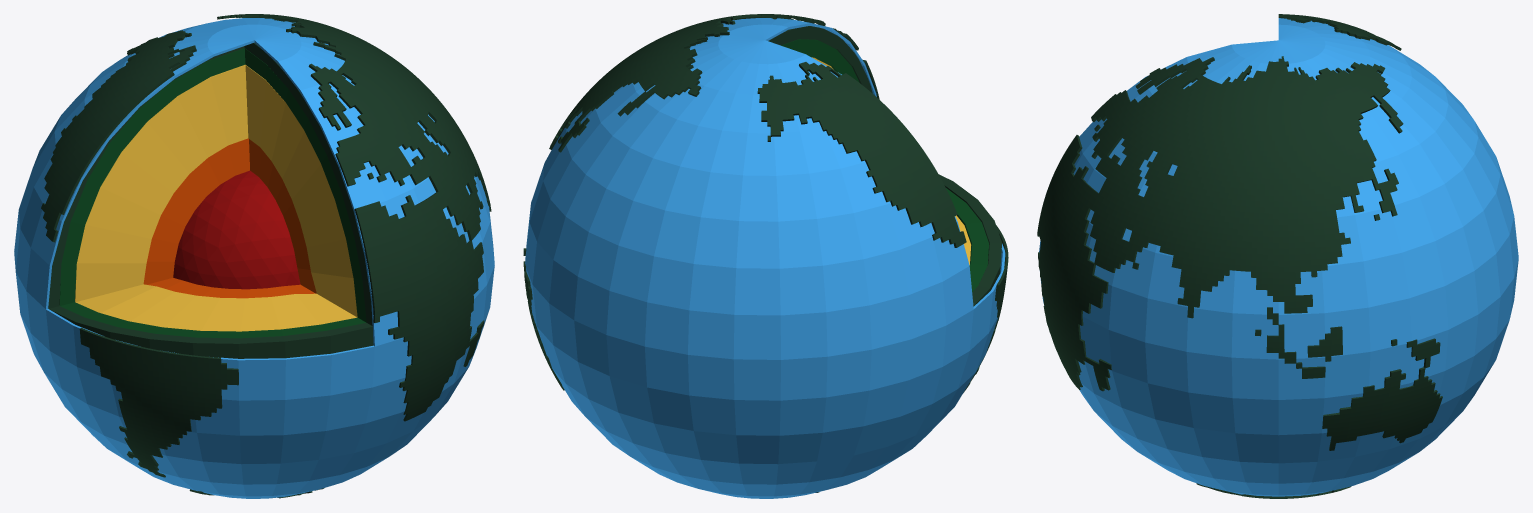
File: ChunkEarth.FBX
The picture shows the model from 3 angles, left to right: view 1: azimuth 30°, elevation 25°; view 2: azimuth 150°, elevation 25°; view 3: azimuth 270°, elevation 25°; orthographic projection.
Visible parts, largest first — view 1: Sphere005, Sphere006, Sphere003, GeoSphere003, Sphere002, Sphere001, Sphere004; view 2: Sphere005, Sphere006, Sphere001, Sphere002; view 3: Sphere005, Sphere006.
Part boxes in pixels (<box>): Sphere005: <box>14,18,494,498</box>; Sphere006: <box>41,14,491,498</box>; Sphere003: <box>75,64,357,331</box>; GeoSphere003: <box>173,170,300,289</box>; Sphere002: <box>59,48,366,338</box>; Sphere001: <box>48,42,373,358</box>; Sphere004: <box>143,138,316,298</box>; Sphere005: <box>525,18,1005,498</box>; Sphere006: <box>523,14,1008,492</box>; Sphere001: <box>768,26,1001,306</box>; Sphere002: <box>781,39,988,292</box>; Sphere005: <box>1039,18,1518,496</box>; Sphere006: <box>1037,14,1442,498</box>.
Size of the model in its own units: 4.89 by 4.91 by 4.89.
